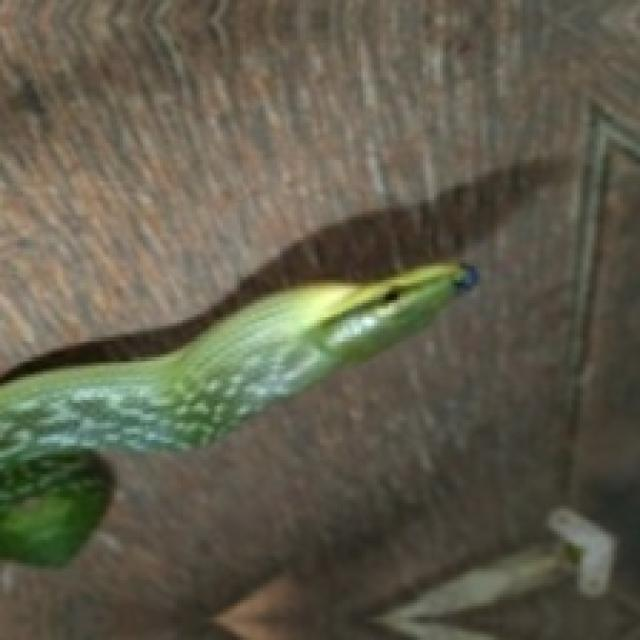red-tailed green ratsnake: (0, 263, 474, 563), (0, 263, 466, 563)
